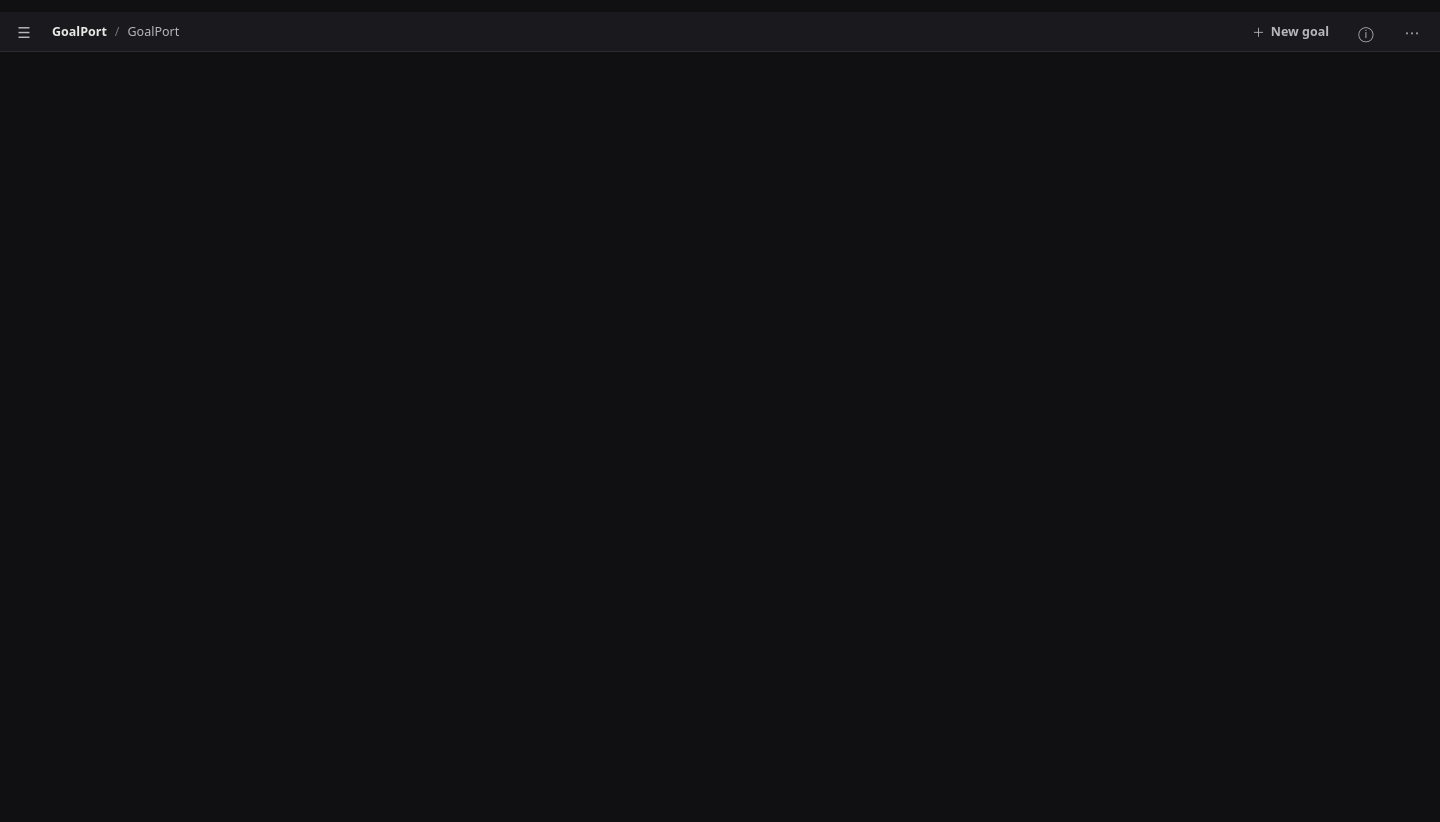
it: TitleBar application menu › a click outside closes the menu
Click the button named "Application menu" at point(1412, 32), box [1392,12,1432,52]
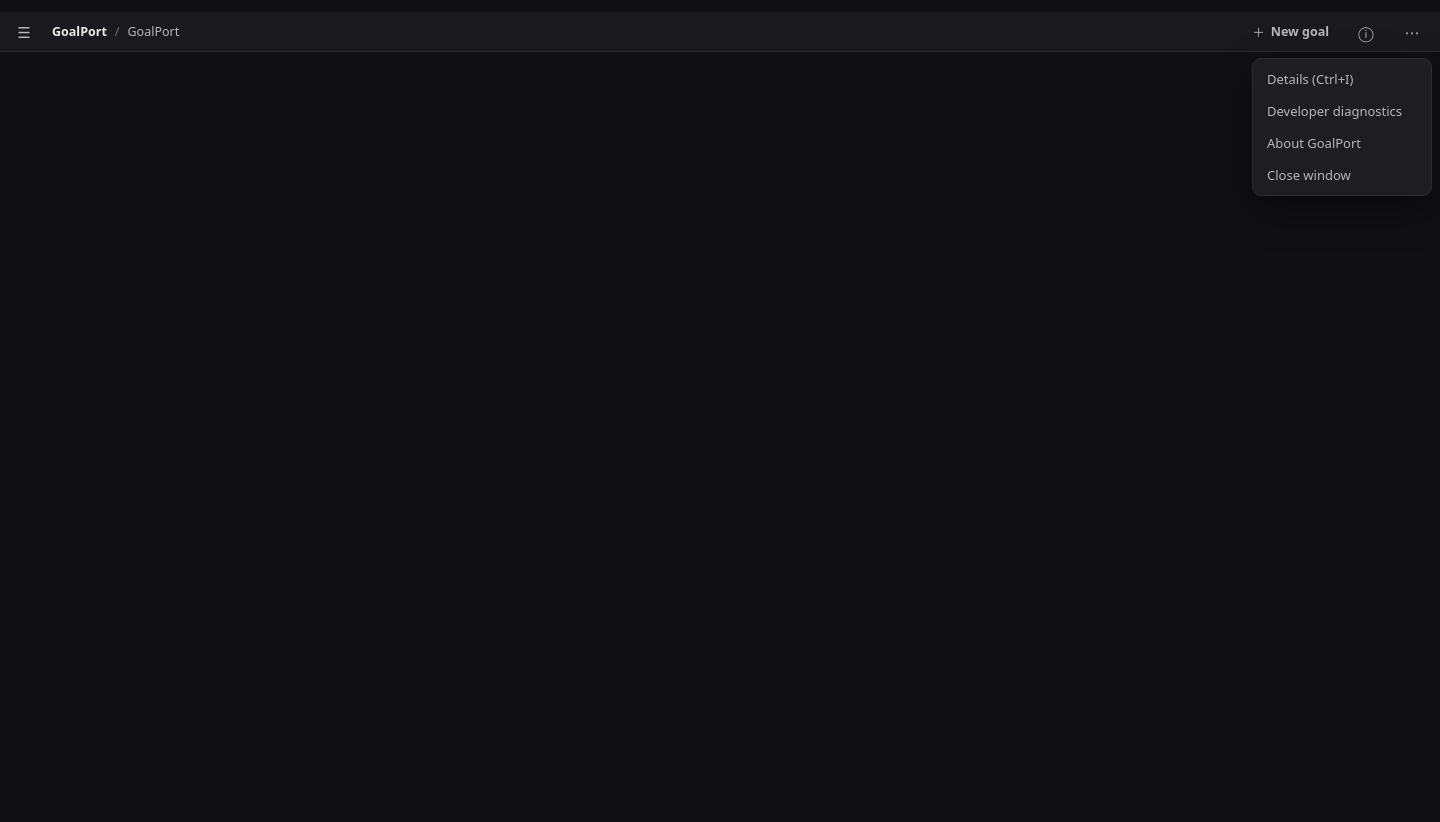
Press the mouse on the element showing "☰ GoalPort / GoalPort ＋ New goal ⓘ ⋯" at point(720, 417), box [0,12,1439,821]
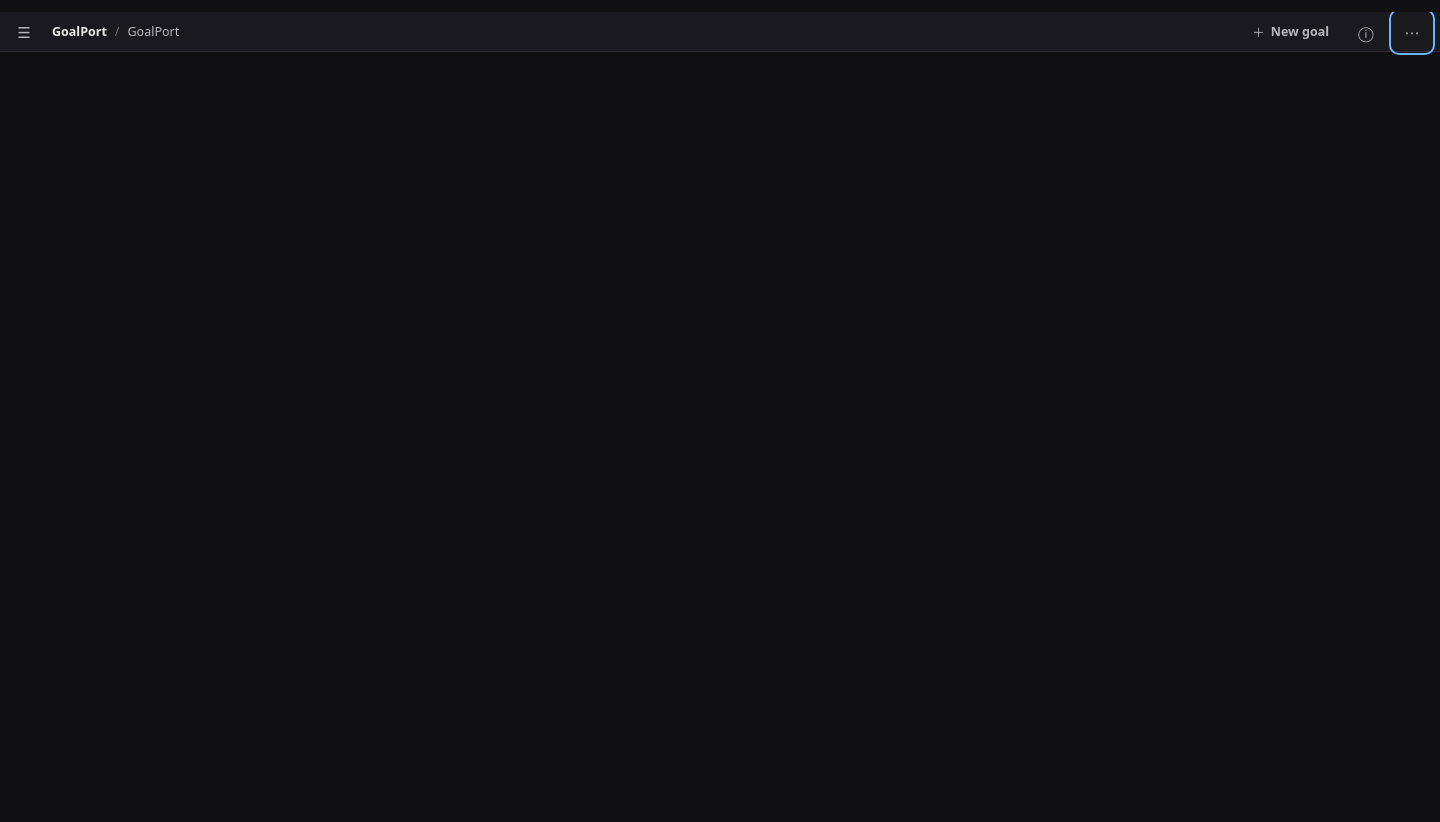
Result: the menu is gone
